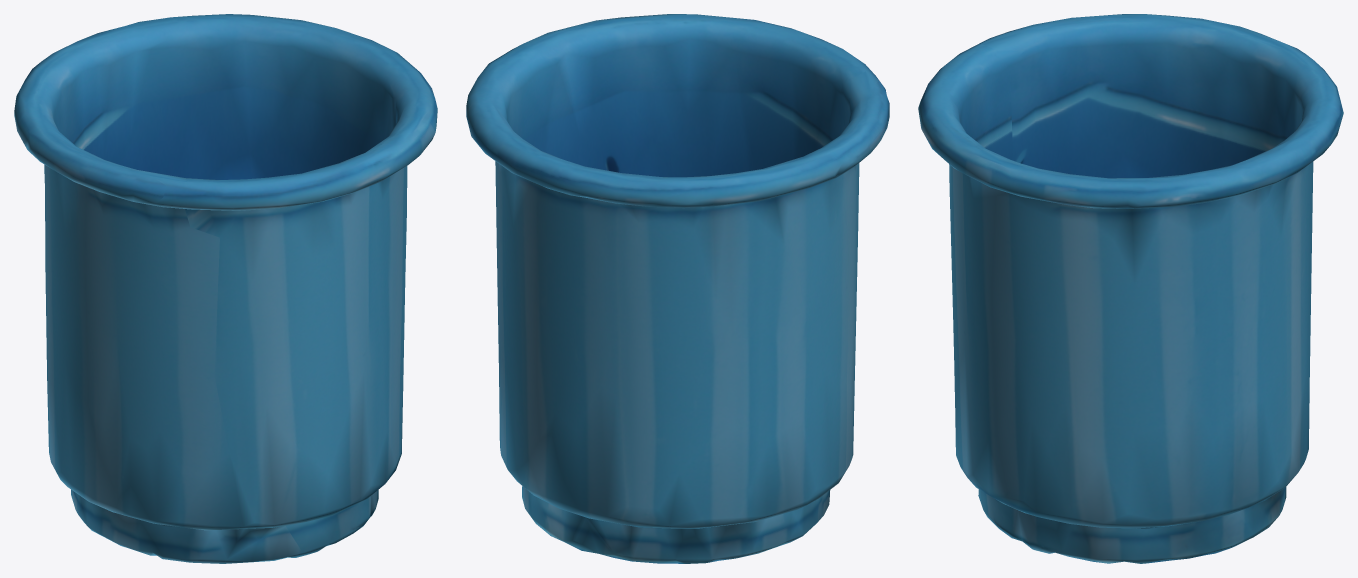
Rendered from ground_truth.glb.
3 renders of one model, left to right at view 1: azimuth 30°, elevation 25°; view 2: azimuth 150°, elevation 25°; view 3: azimuth 270°, elevation 25°, orthographic.
Visible parts, largest first — view 1: textured.069; view 2: textured.069; view 3: textured.069.
Part boxes in pixels (x1,y1,x2,y2): textured.069: [14, 14, 437, 563]; textured.069: [466, 14, 889, 563]; textured.069: [918, 14, 1343, 563].
Bounding box in the file's own units: 0.061 × 0.0639 × 0.061.
Materials: 1 (1 with a texture image).
